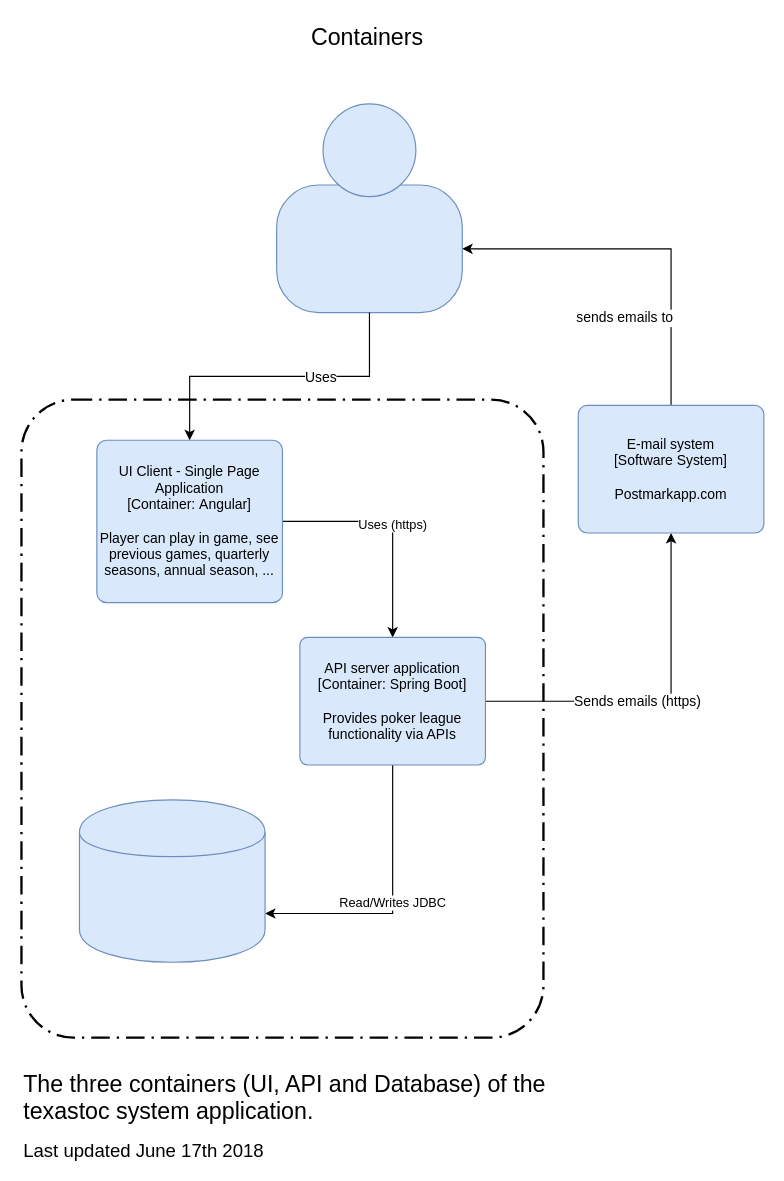
This 784x1181 diagram has some shape labels left out. Here are the shapes that lost their labels. From the top down, the centre of each, then its label:
the point at 369,248: Player [Person] Anyone who can log in
the point at 171,880: Database [Container: PostgreSQL] Each server model has it's own schema
